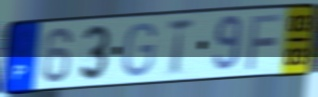3: (79, 23, 112, 83)
6: (40, 25, 74, 85)
9: (211, 13, 244, 75)
F: (245, 12, 286, 72)
G: (121, 21, 158, 79)
T: (165, 16, 196, 78)
